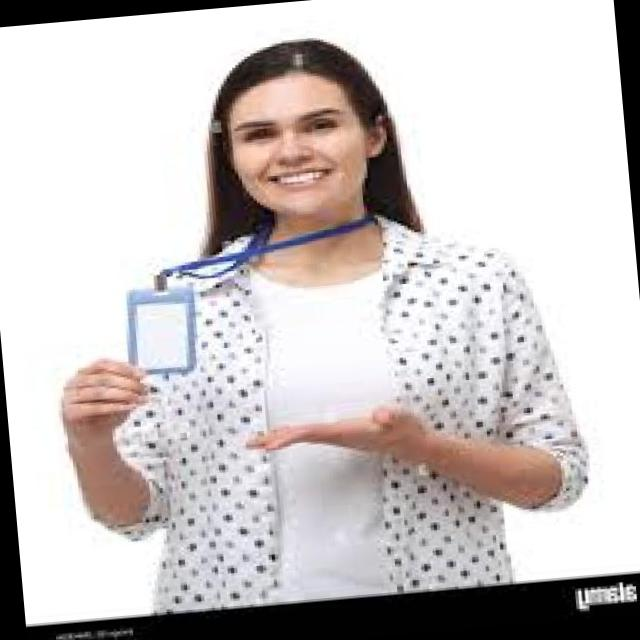id_card: (116, 207, 374, 376)
